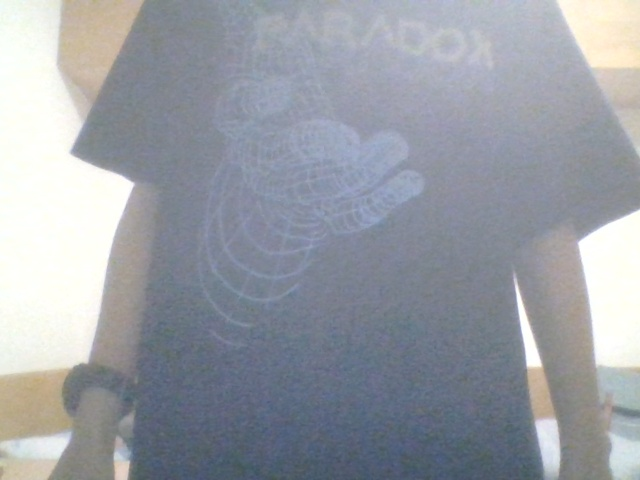human: (49, 1, 640, 480)
